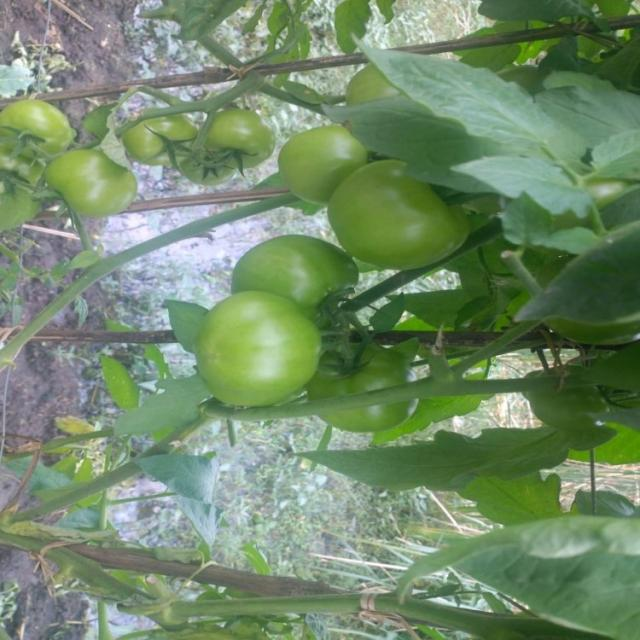tomato: (187, 285, 337, 431), (337, 147, 480, 277), (220, 215, 363, 314), (298, 341, 414, 436), (265, 113, 385, 204), (40, 144, 150, 225), (204, 94, 282, 178), (122, 94, 204, 169), (1, 89, 79, 165)
